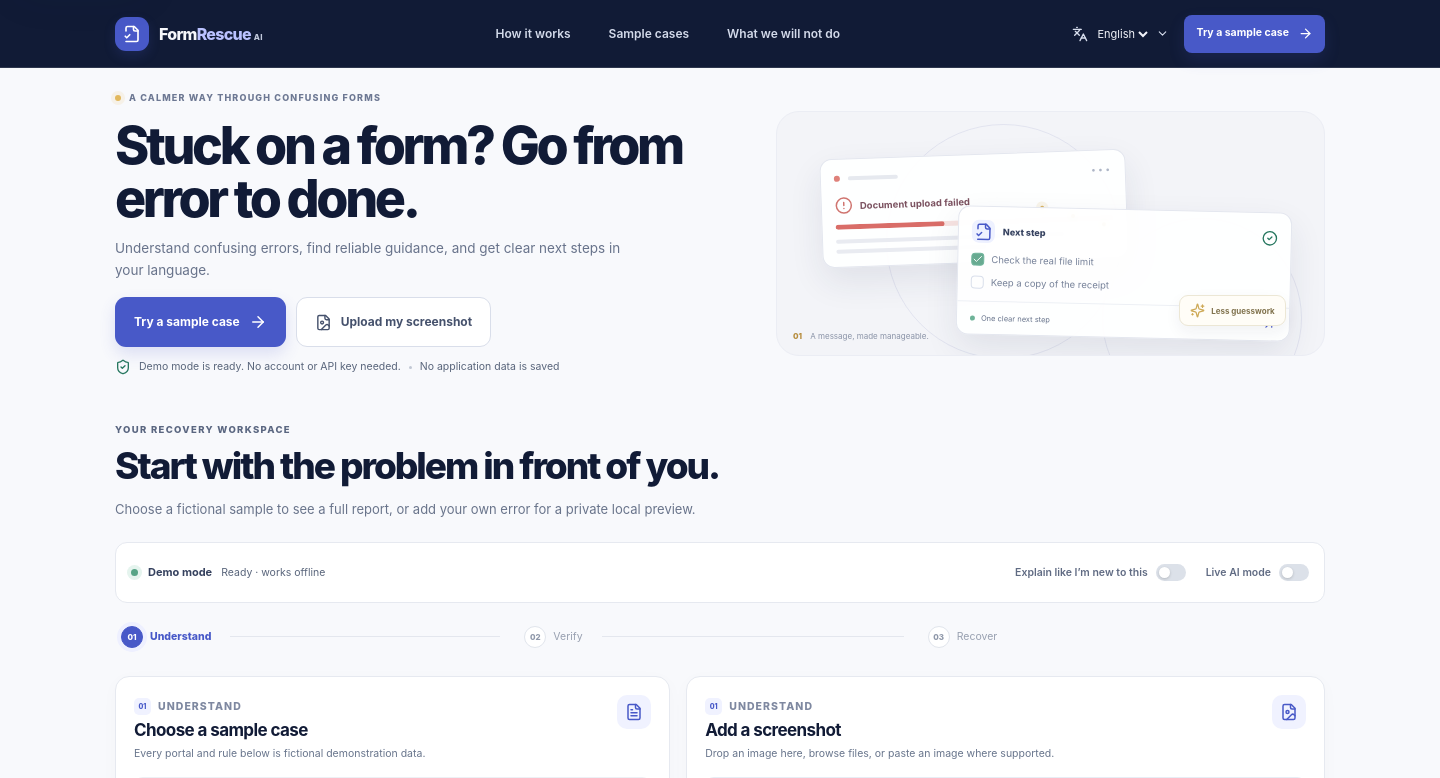
it: FormRescue user workflows › localizes replacement and manual-sample actions in Hindi
Later steps or results of the test are not shown.
Select "हिन्दी" in the dropdown named "Language": (1122, 34) [1094,26,1152,42]
(page scrolled)
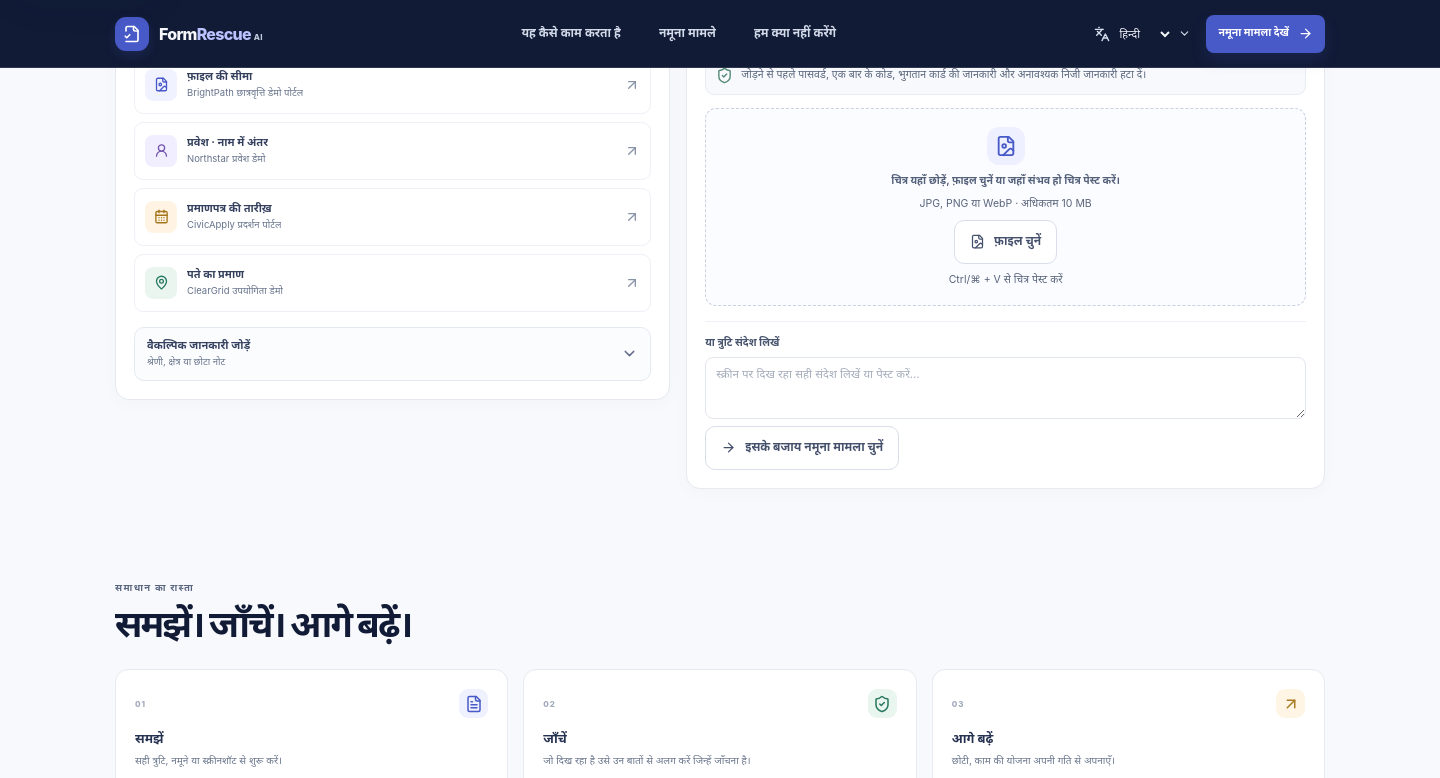
Check: the button "इसके बजाय नमूना मामला चुनें" is shown, box [705,426,899,470]
